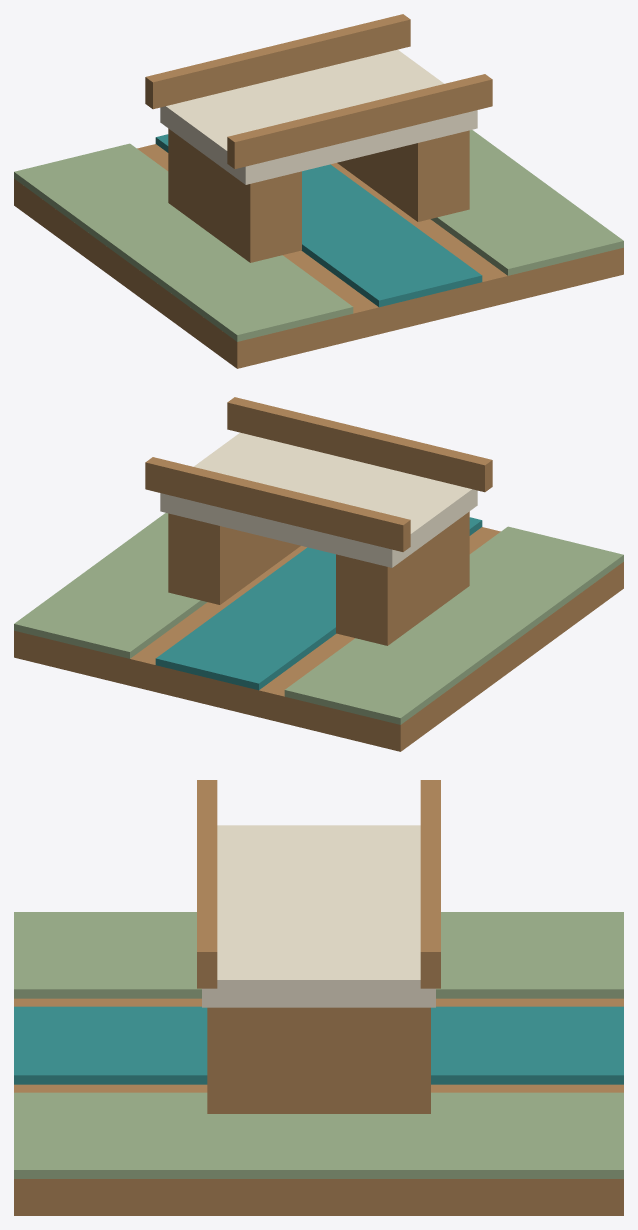
Rendered from tabletop-game-components-arched-bridge-14707306__20869.glb.
3 views of the same model, one above another, from view 1: azimuth 30°, elevation 25°; view 2: azimuth 150°, elevation 25°; view 3: azimuth 270°, elevation 25° (orthographic). The views are drawn at different scales.
Visible parts, largest first — view 1: arched-bridge; view 2: arched-bridge; view 3: arched-bridge.
Boxes of the visible parts, left/top/right/bottom form: arched-bridge: left=14, top=14, right=623, bottom=368; arched-bridge: left=14, top=397, right=623, bottom=751; arched-bridge: left=14, top=780, right=623, bottom=1215.
Bounding box in the file's own units: 0.06 × 0.024 × 0.06.
